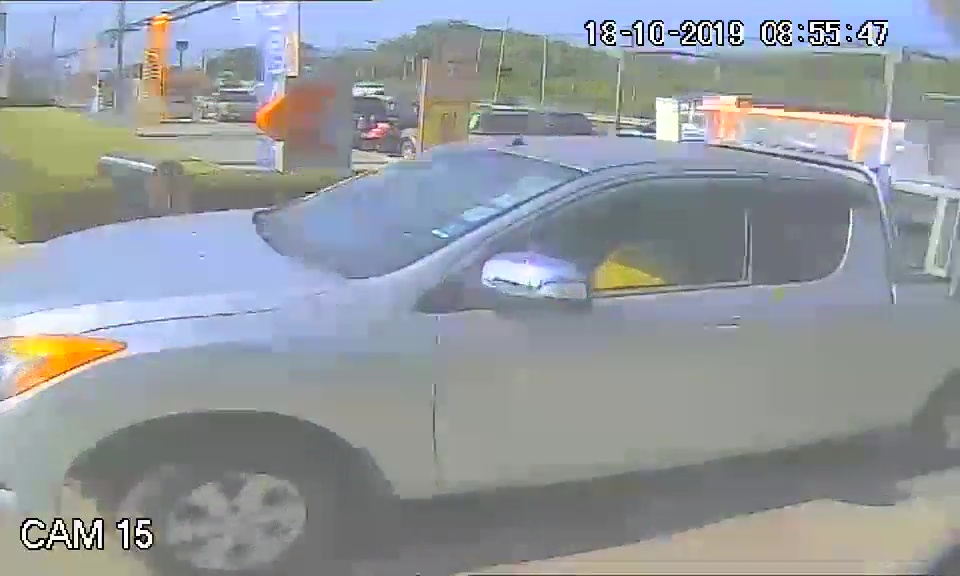pickup: (3, 133, 815, 522)
